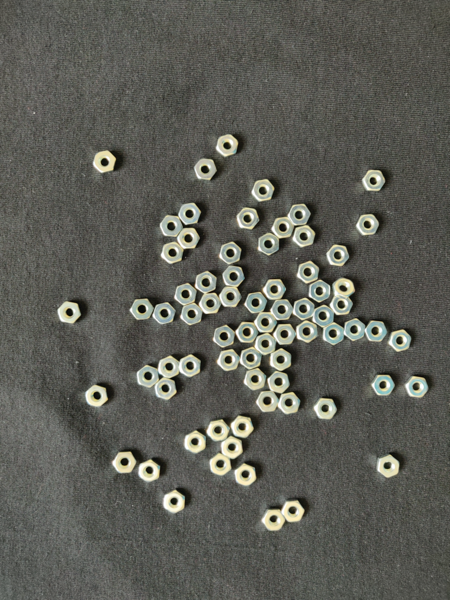nut: (377, 454, 400, 478), (93, 150, 116, 174), (252, 179, 275, 203), (282, 500, 305, 523), (231, 416, 254, 439), (85, 385, 108, 408), (389, 330, 412, 353), (220, 242, 243, 265), (161, 242, 184, 265), (179, 203, 202, 226), (262, 509, 286, 531), (164, 490, 186, 514), (222, 436, 244, 460), (240, 347, 262, 371), (153, 303, 177, 325), (362, 170, 386, 192), (160, 216, 184, 238), (217, 134, 239, 158), (405, 377, 430, 398), (235, 464, 257, 487), (139, 460, 161, 483), (209, 453, 231, 476), (315, 399, 338, 421), (278, 393, 301, 415), (256, 391, 279, 413), (158, 356, 180, 379), (180, 355, 202, 378), (268, 371, 290, 394), (245, 368, 267, 391), (270, 349, 292, 372), (255, 333, 277, 356), (293, 298, 316, 320), (313, 305, 335, 328), (309, 280, 331, 303), (58, 302, 81, 324), (181, 303, 203, 326), (223, 266, 246, 288), (298, 261, 320, 284), (327, 245, 350, 267), (357, 215, 380, 237), (293, 226, 316, 248), (272, 217, 295, 239), (177, 228, 200, 250), (195, 159, 218, 181), (113, 453, 137, 474), (130, 299, 154, 320), (244, 293, 268, 314), (208, 420, 230, 442), (155, 378, 177, 400), (137, 366, 159, 388), (218, 350, 240, 372), (366, 321, 388, 343), (214, 326, 236, 348), (333, 278, 355, 300), (175, 284, 197, 306), (195, 272, 217, 294), (237, 208, 259, 230), (185, 431, 206, 454), (345, 319, 366, 342), (324, 323, 345, 346), (297, 321, 318, 344), (271, 300, 294, 321), (259, 233, 280, 256), (288, 205, 311, 226), (254, 313, 278, 333), (263, 280, 287, 300), (274, 325, 296, 346), (200, 293, 222, 314), (220, 287, 242, 308), (372, 376, 395, 396), (330, 296, 353, 316), (237, 323, 258, 344)
